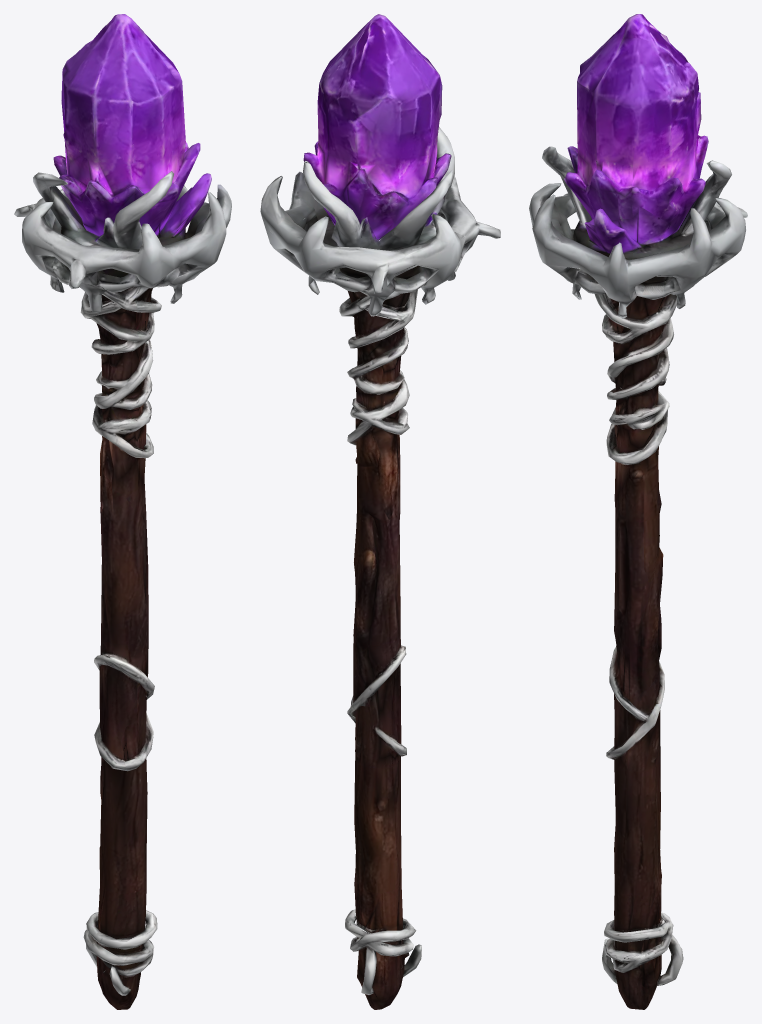
Rendered from mage-staff.glb.
The picture shows the model from 3 angles, left to right: view 1: azimuth 30°, elevation 25°; view 2: azimuth 150°, elevation 25°; view 3: azimuth 270°, elevation 25°; orthographic projection.
Visible parts, largest first — view 1: mage-staff; view 2: mage-staff; view 3: mage-staff.
Part boxes in pixels (x1,y1,x2,y2): mage-staff: (14, 14, 231, 1009); mage-staff: (260, 14, 500, 1009); mage-staff: (529, 14, 747, 1009).
Bounding box in the file's own units: 0.353 × 1.8 × 0.3594.
1 material, 1 textured.
